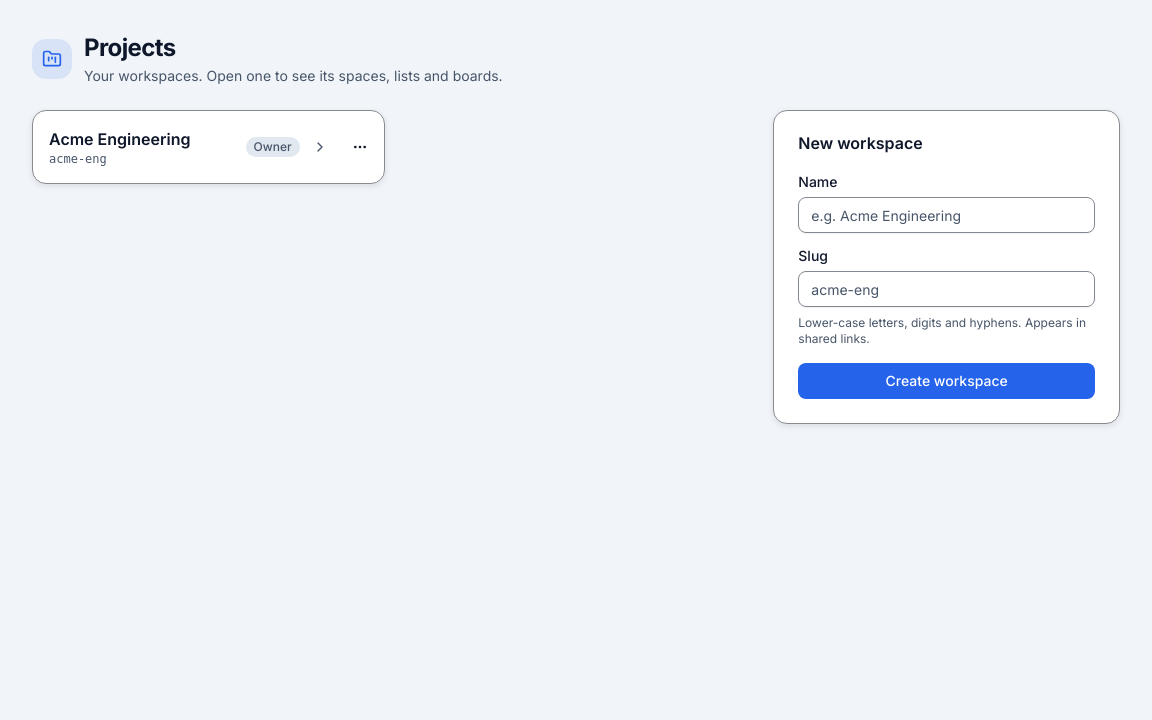
Test case: <Projects> changing a workspace › renames without touching the slug, reads the list again, and gives focus back to the menu button
Click the button named "Actions for Acme Engineering" at (360, 147), box [344,131,376,163]
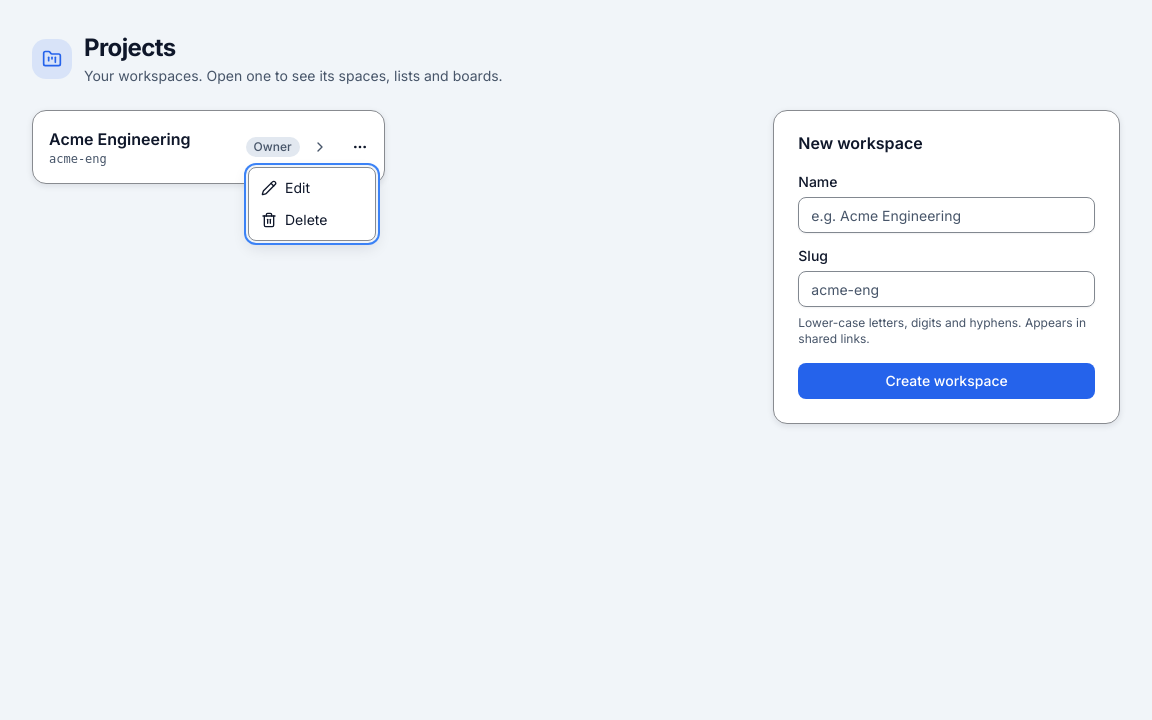
Click the menu item "Edit" at (286, 188), box [261,179,310,196]
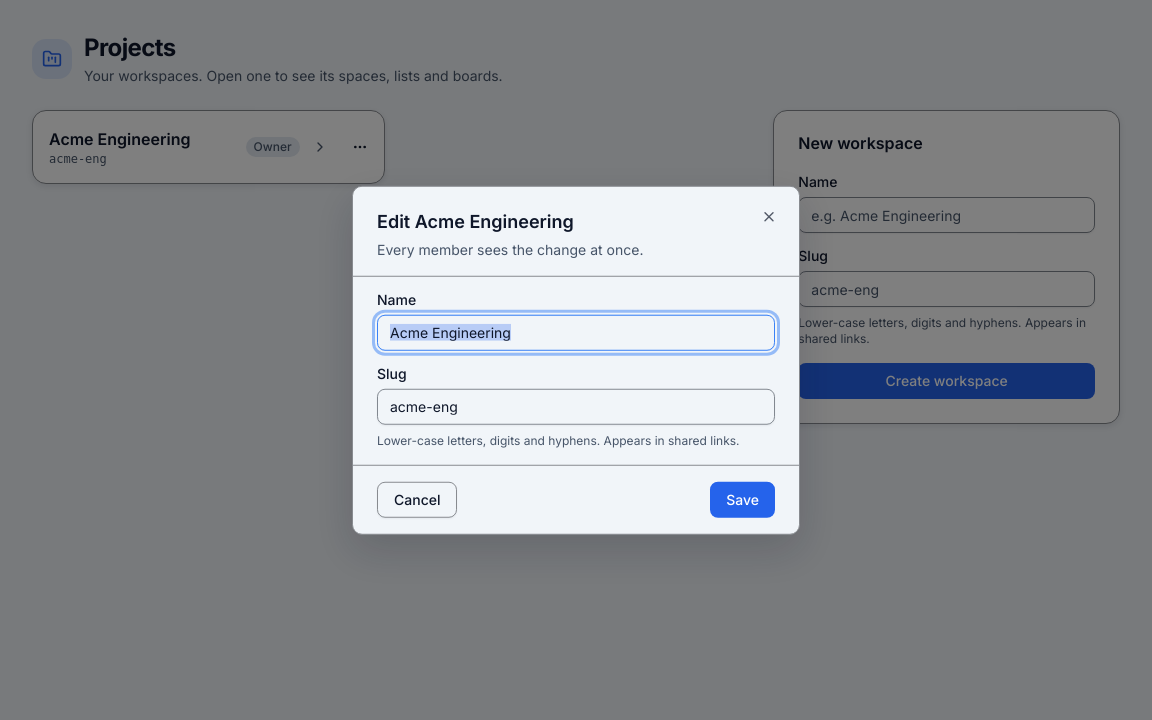
Now the field labelled "Name" holds "Acme Engineering"
Replace the text in the field labelled "Name" with "Acme Platform" at (576, 332), box [377,314,775,350]
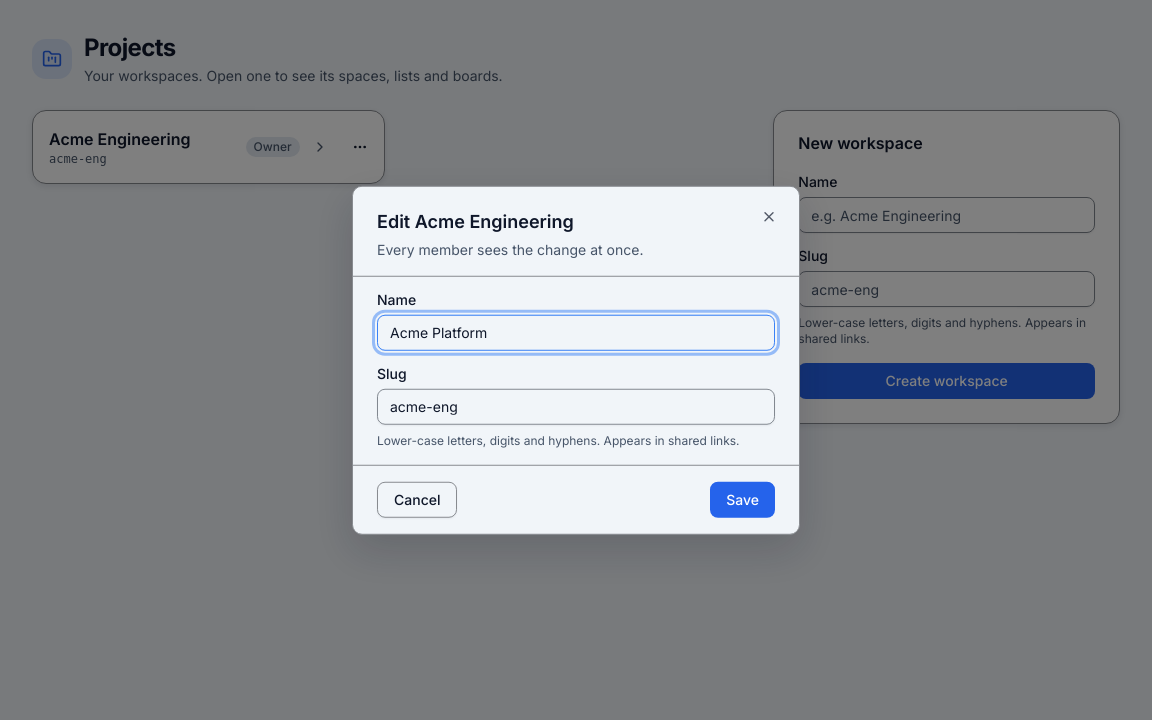
Now the field labelled "Slug" holds "acme-eng", box [377,388,775,424]
Click the button "Save" at (743, 499), box [710,481,775,517]
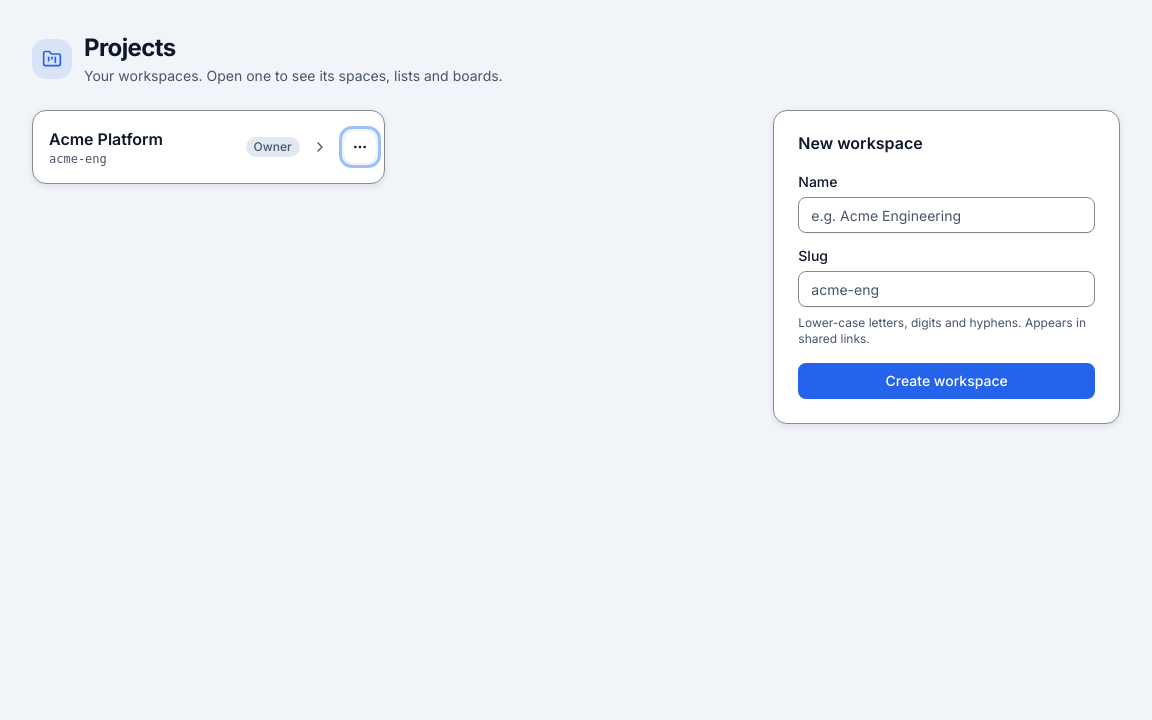
Now the dialog is gone
